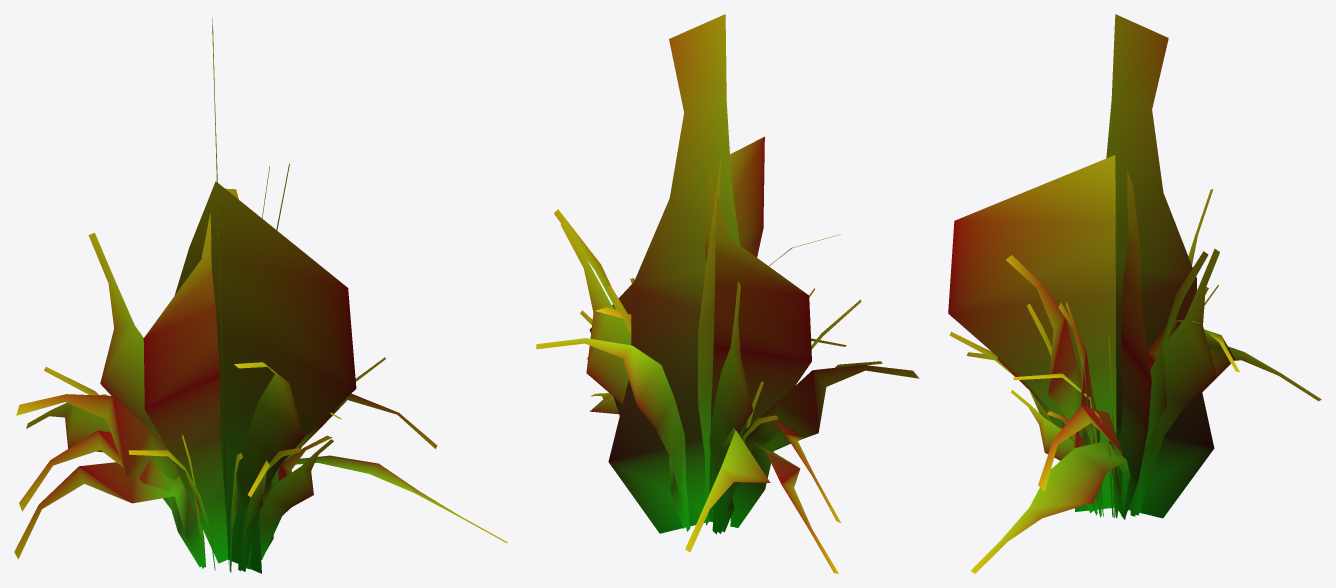
The model's file is tmjhcayia_Var4_LOD0.fbx.
3 views of the same model, side by side, from view 1: azimuth 30°, elevation 25°; view 2: azimuth 150°, elevation 25°; view 3: azimuth 270°, elevation 25° (orthographic). The views are drawn at different scales.
Parts seen in each view (by area): view 1: Var4_LOD0; view 2: Var4_LOD0; view 3: Var4_LOD0.
Part boxes in pixels (x1,y1,x2,y2): Var4_LOD0: [14, 18, 507, 573]; Var4_LOD0: [536, 14, 919, 573]; Var4_LOD0: [948, 14, 1321, 573].
Bounding box in the file's own units: 13.73 × 16.75 × 11.68.
